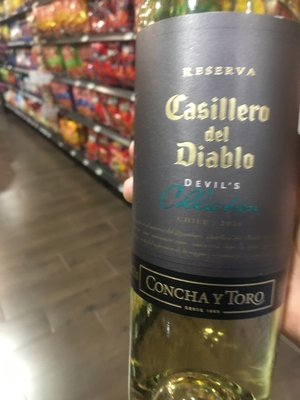casillero del diablo devils collection verde: (114, 5, 299, 400)
